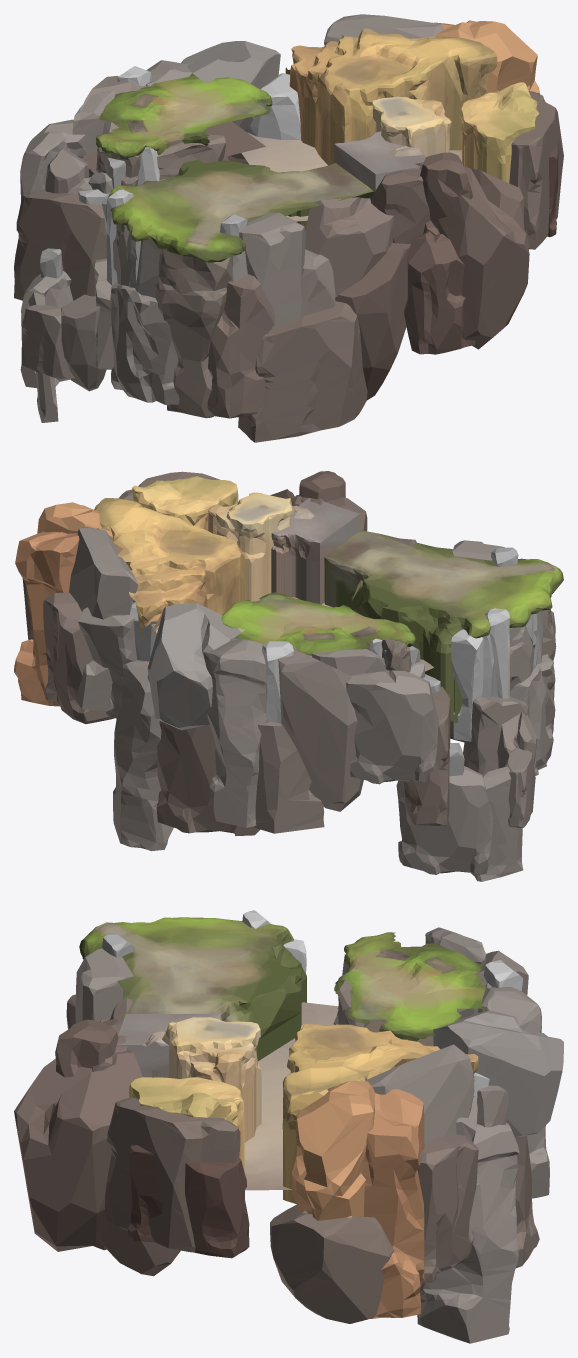
File: VillageGround.fbx
3 renders of one model, top to bottom at view 1: azimuth 30°, elevation 25°; view 2: azimuth 150°, elevation 25°; view 3: azimuth 270°, elevation 25°, orthographic. The views are drawn at different scales.
Visible parts, largest first — view 1: Cube.029, Icosphere.008, BlashmithGround, YardEntry-Gravel, Cube.043, BlashmithGround-Sand, Cube.049, Cube.045, Cylinder.014, YardCart-Grass, Cylinder.011, YardEntry (+35 smaller); view 2: YardEntry, Cube.023, Icosphere.009, Cylinder.010, YardEntry-Gravel, BlashmithGround, Cube.022, Icosphere.004, Cylinder.012, Cylinder.006, Cube.021, VillageGround (+29 smaller); view 3: Icosphere.008, Cube.022, VillageGround, Cube.046, Icosphere.003, YardEntry-Gravel, Cylinder.007, YardEntry, Icosphere.004, Cube.048, Cube.019, InnGround (+21 smaller).
Part boxes in pixels (x1,y1,x2,y2): Cube.029: [238, 301, 367, 442]; Icosphere.008: [437, 166, 529, 349]; BlashmithGround: [285, 35, 412, 165]; YardEntry-Gravel: [167, 161, 368, 246]; Cube.043: [155, 248, 231, 418]; BlashmithGround-Sand: [352, 28, 497, 150]; Cube.049: [14, 191, 106, 300]; Cube.045: [207, 274, 274, 418]; Cylinder.014: [404, 231, 475, 354]; YardCart-Grass: [81, 73, 272, 171]; Cylinder.011: [110, 282, 179, 404]; YardEntry: [108, 159, 373, 262]; YardEntry: [324, 530, 563, 723]; Cube.023: [203, 638, 267, 827]; Icosphere.009: [278, 648, 363, 811]; Cylinder.010: [346, 670, 439, 784]; YardEntry-Gravel: [324, 531, 556, 608]; BlashmithGround: [129, 526, 245, 639]; Cube.022: [113, 660, 173, 851]; Icosphere.004: [147, 603, 241, 730]; Cylinder.012: [396, 766, 493, 875]; Cylinder.006: [156, 721, 260, 836]; Cube.021: [69, 526, 138, 711]; VillageGround: [14, 531, 79, 706]; Icosphere.008: [14, 1049, 142, 1251]; Cube.022: [417, 1122, 519, 1343]; VillageGround: [361, 1089, 424, 1318]; Cube.046: [105, 1097, 240, 1252]; Icosphere.003: [270, 1205, 393, 1323]; YardEntry-Gravel: [93, 922, 290, 1020]; Cylinder.007: [291, 1081, 375, 1220]; YardEntry: [79, 917, 306, 1060]; Icosphere.004: [433, 1010, 563, 1136]; Cube.048: [128, 1145, 249, 1258]; Cube.019: [417, 1134, 478, 1282]; InnGround: [162, 1017, 261, 1142].
Bounding box in the file's own units: 128 × 64.4 × 101.
Materials: 6 (6 with a texture image).
